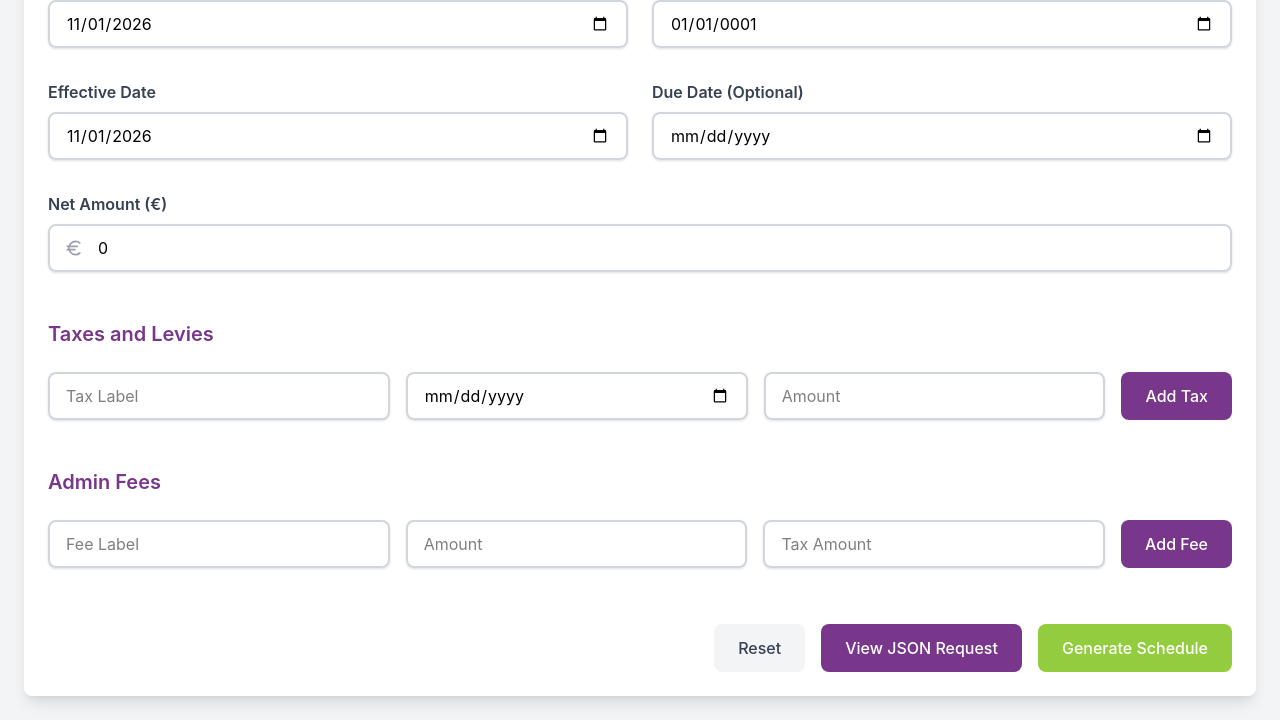
Test: NewSchedule › shows an authentication error when there is no access token
(page scrolled)
What coordinates should you click on to do the following:
click the button "Generate Schedule"
I would click on:
 (1135, 648)
Its box is [1038,624,1232,672].
(page scrolled)
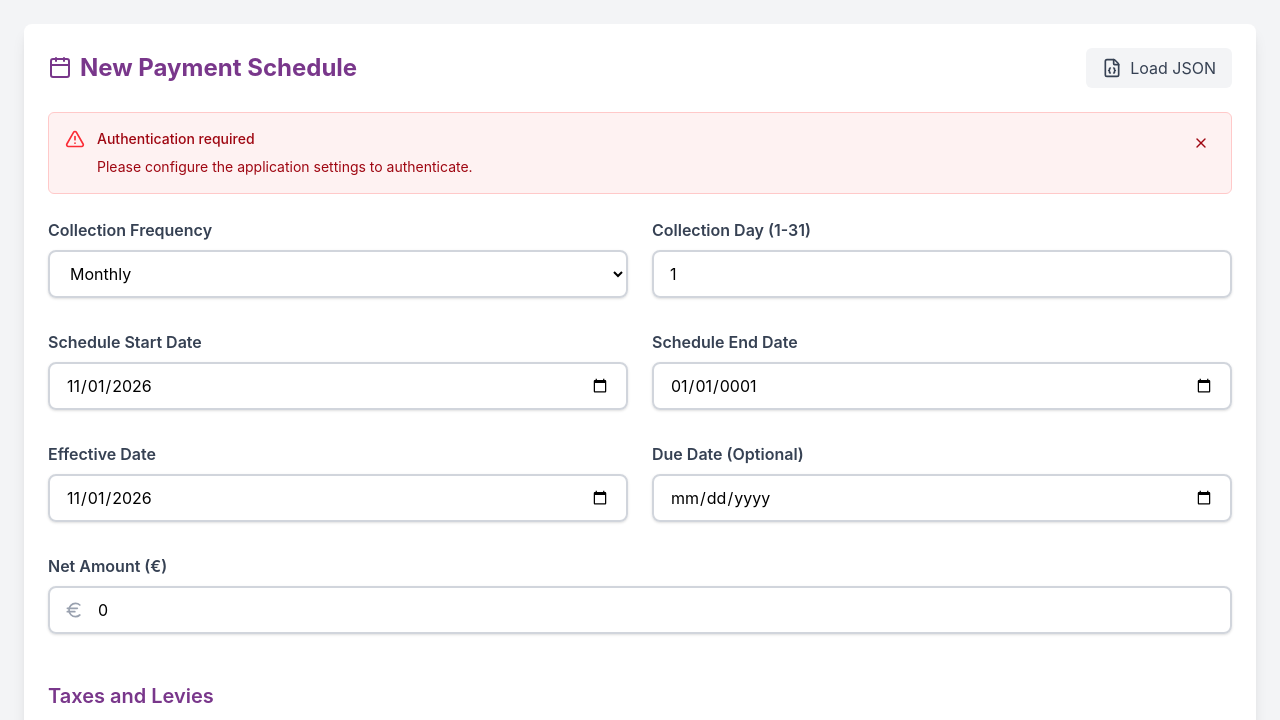
Check: the heading "Authentication required" is shown, box [97,130,255,147]
